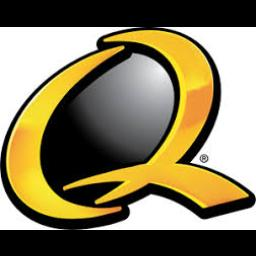q: (0, 26, 256, 228)
